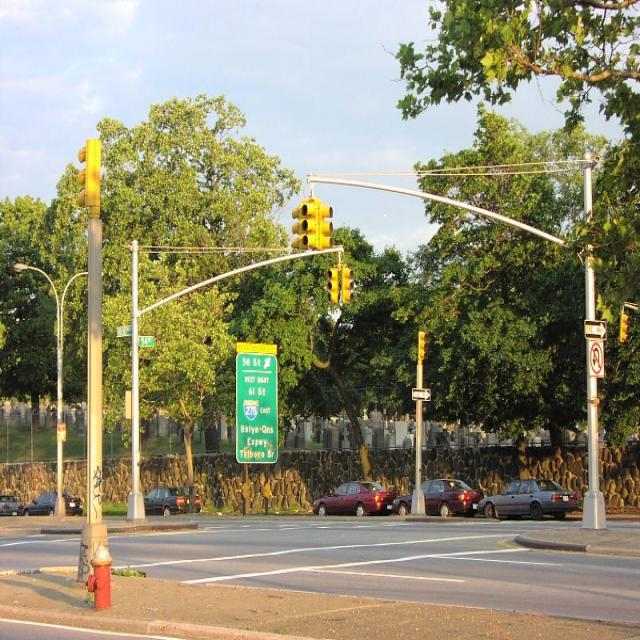Electric pole: (13, 262, 87, 518)
